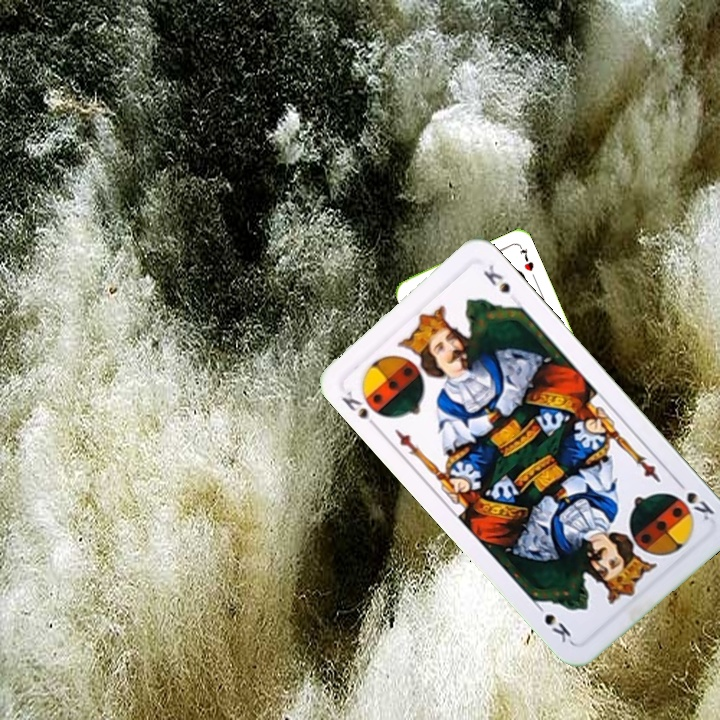SK: (671, 475, 717, 524), (337, 386, 382, 432)
